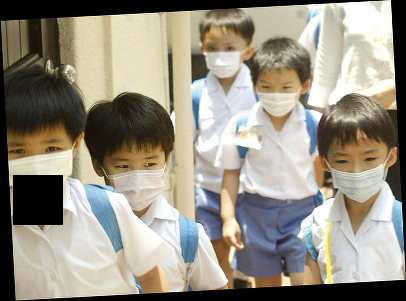with_mask: (8, 135, 76, 204), (104, 151, 167, 213), (330, 147, 389, 205), (256, 76, 302, 119), (204, 38, 245, 80)
